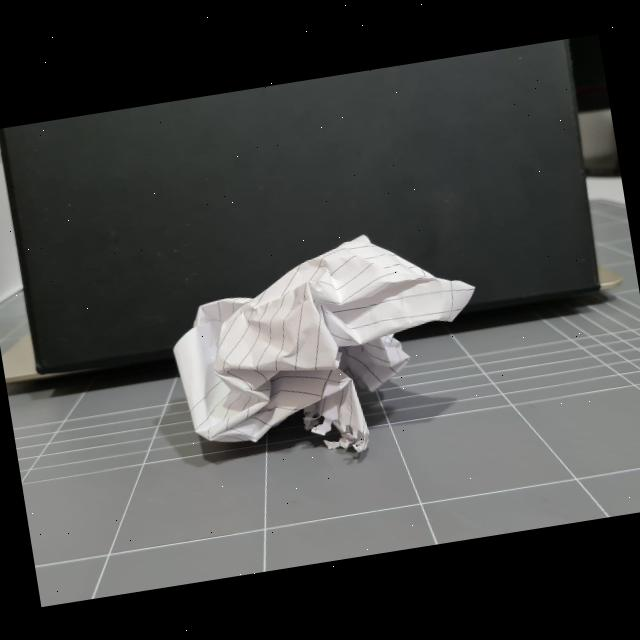trash: (155, 222, 498, 472)
